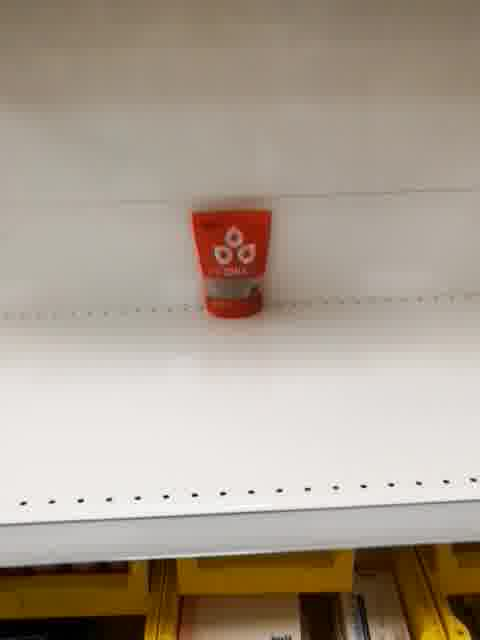whitechia: (189, 205, 277, 322)
